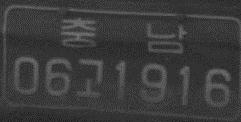0: (12, 55, 41, 97)
1: (172, 64, 199, 109), (108, 60, 134, 101)
6: (44, 57, 73, 98), (205, 67, 232, 109)
9: (139, 62, 168, 103)
고: (75, 58, 104, 99)
충남_D: (59, 17, 186, 54)
